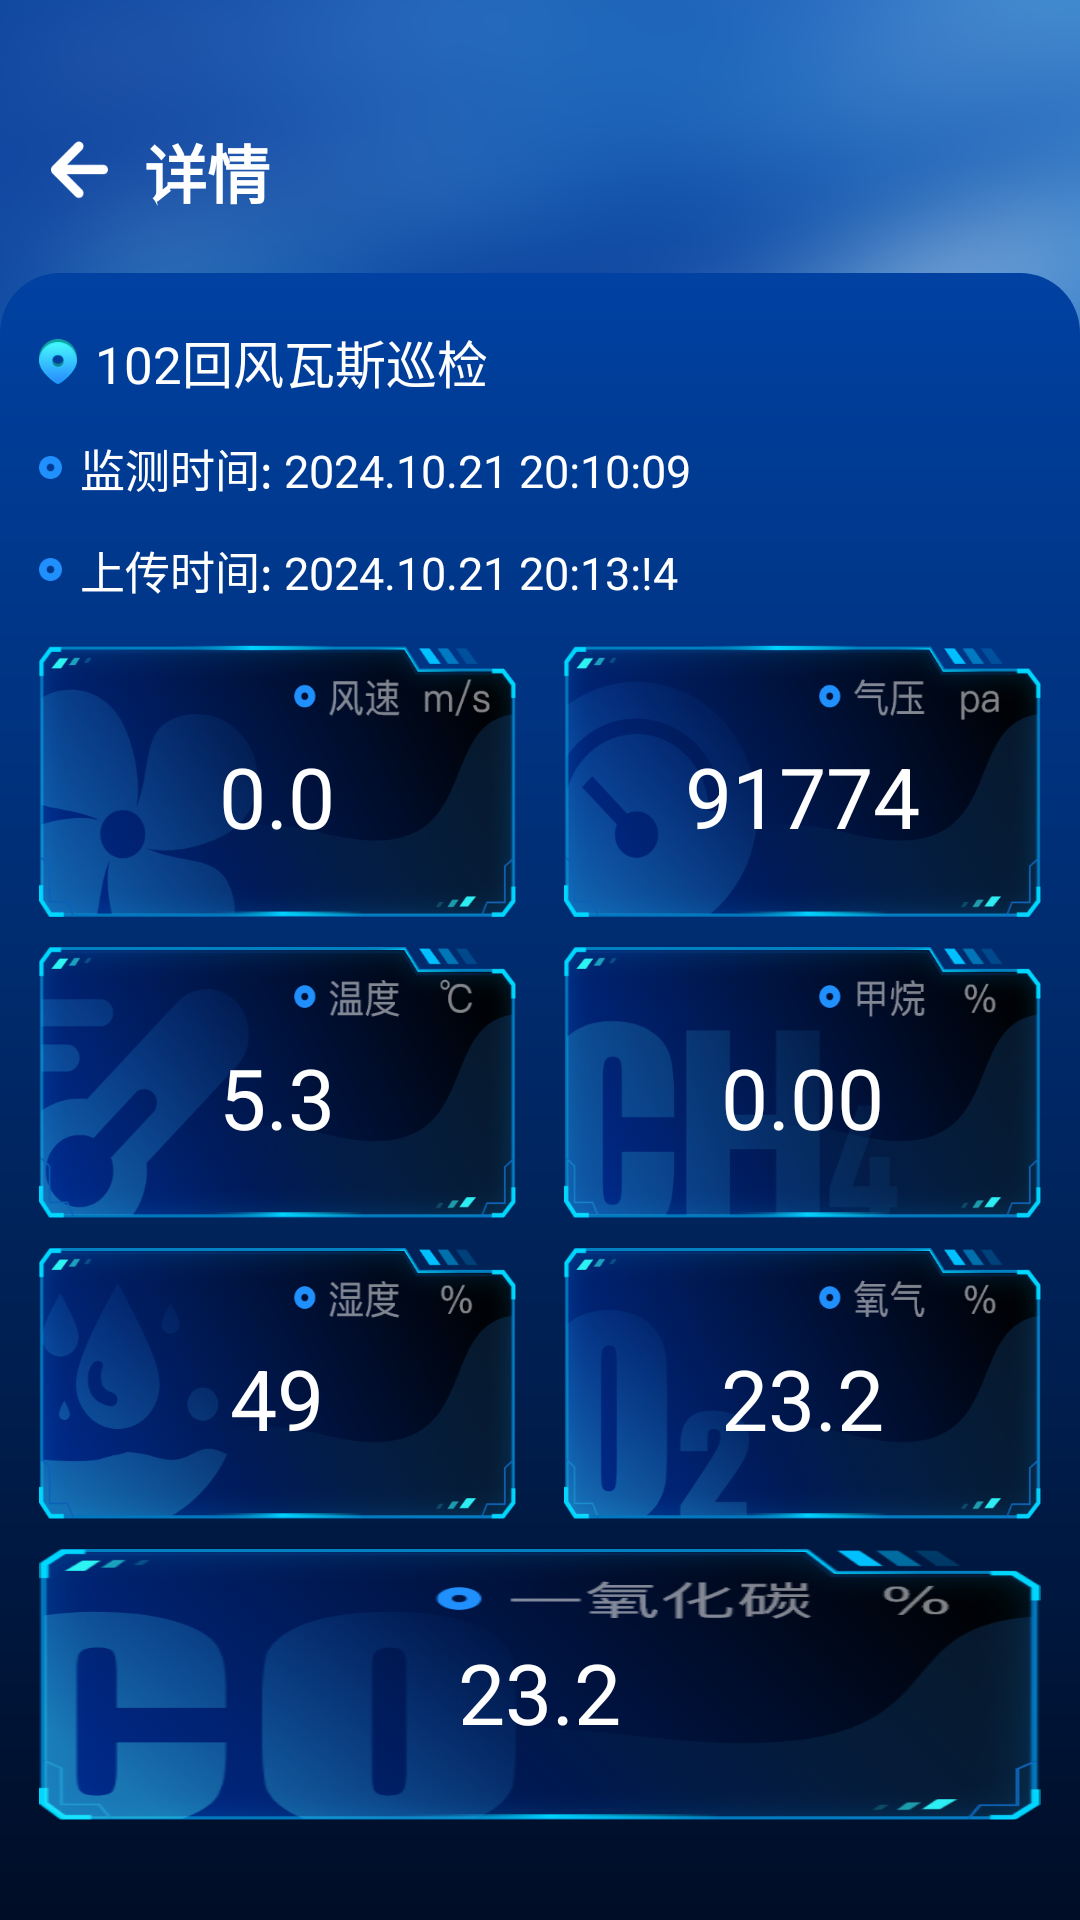

Where icons sit on this 1080px×1920px app screen, as (x1, y1, x2, y2):
back: (51, 141, 108, 198)
coordinate: (39, 339, 77, 384)
